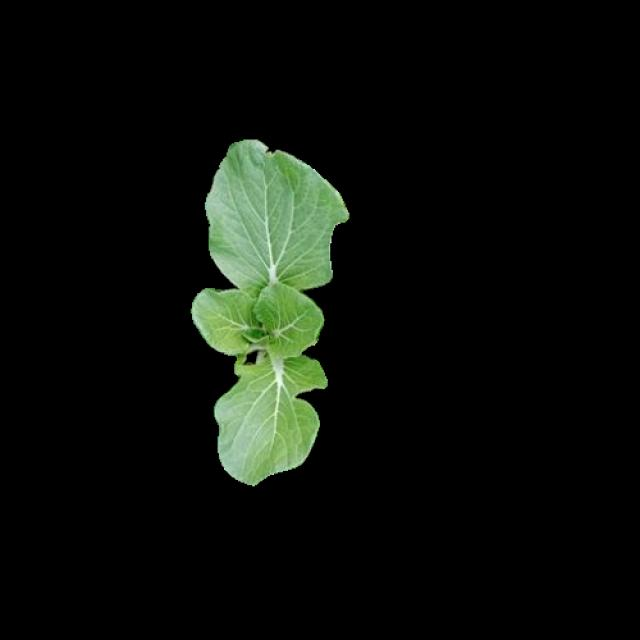healthy: (192, 155, 346, 482)
not-mature: (193, 141, 348, 485)
